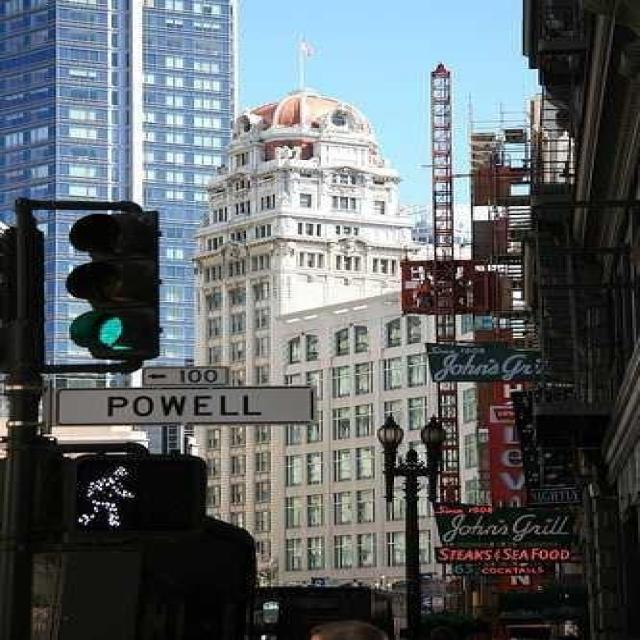Traffic Light -Green-: (65, 208, 165, 362)
